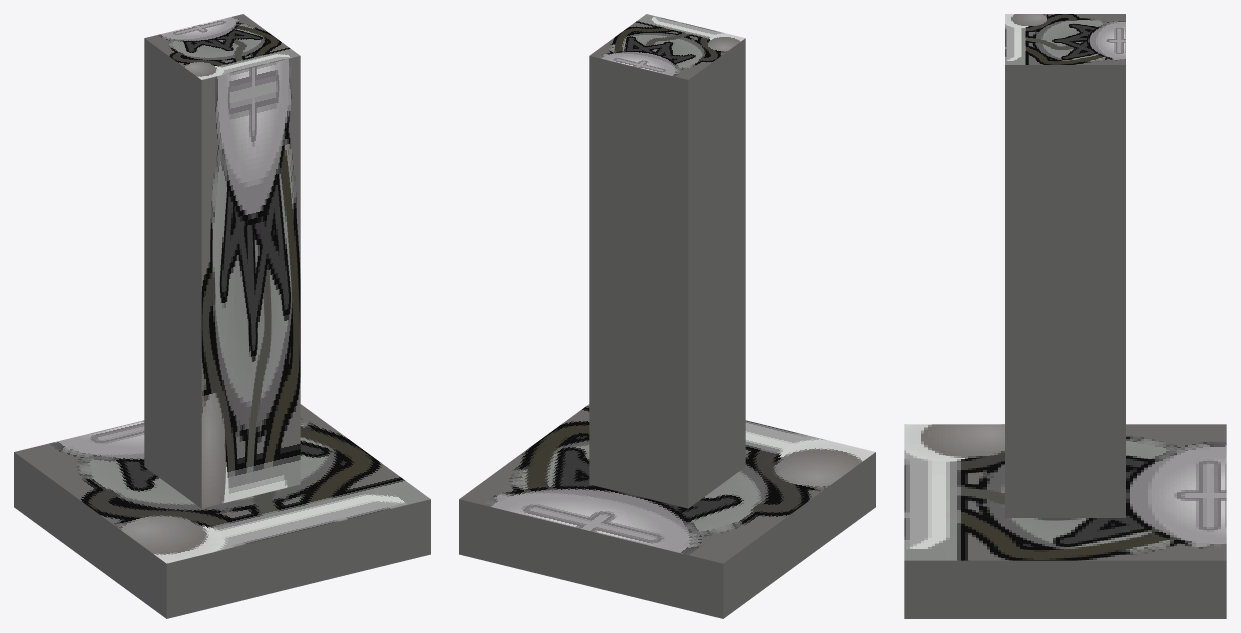
File: Building_MechbandDish.glb
The picture shows the model from 3 angles, left to right: view 1: azimuth 30°, elevation 25°; view 2: azimuth 150°, elevation 25°; view 3: azimuth 270°, elevation 25°; orthographic projection. The views are drawn at different scales.
Parts seen in each view (by area): view 1: MechbandDish; view 2: MechbandDish; view 3: MechbandDish.
Part boxes in pixels (bbox=[...]): MechbandDish: bbox=[14, 14, 430, 618]; MechbandDish: bbox=[459, 14, 875, 618]; MechbandDish: bbox=[904, 14, 1226, 618].
Size of the model in its own units: 0.8 by 1.4 by 0.8.
Materials: 1 (1 with a texture image).
